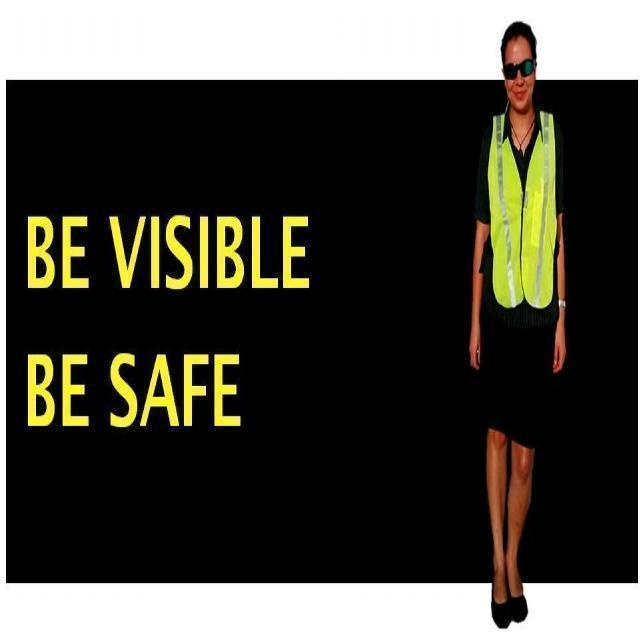no-helmet: (500, 17, 540, 78)
vest: (481, 106, 564, 314)
